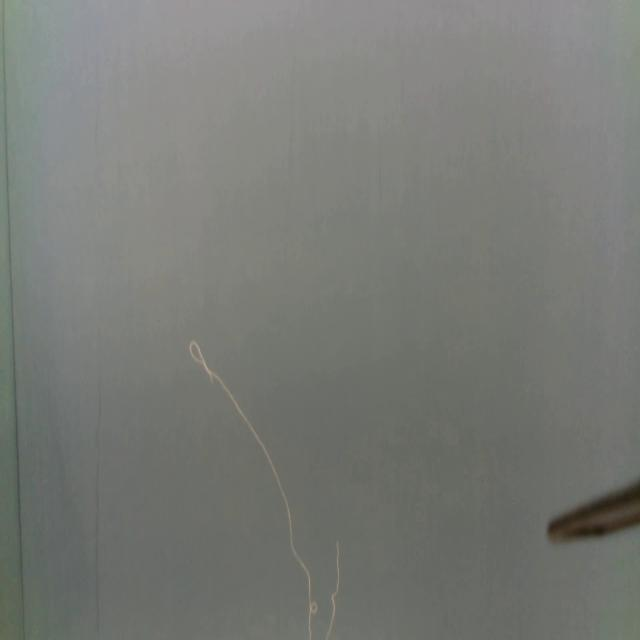crease: (1, 0, 27, 640), (94, 376, 105, 640)
